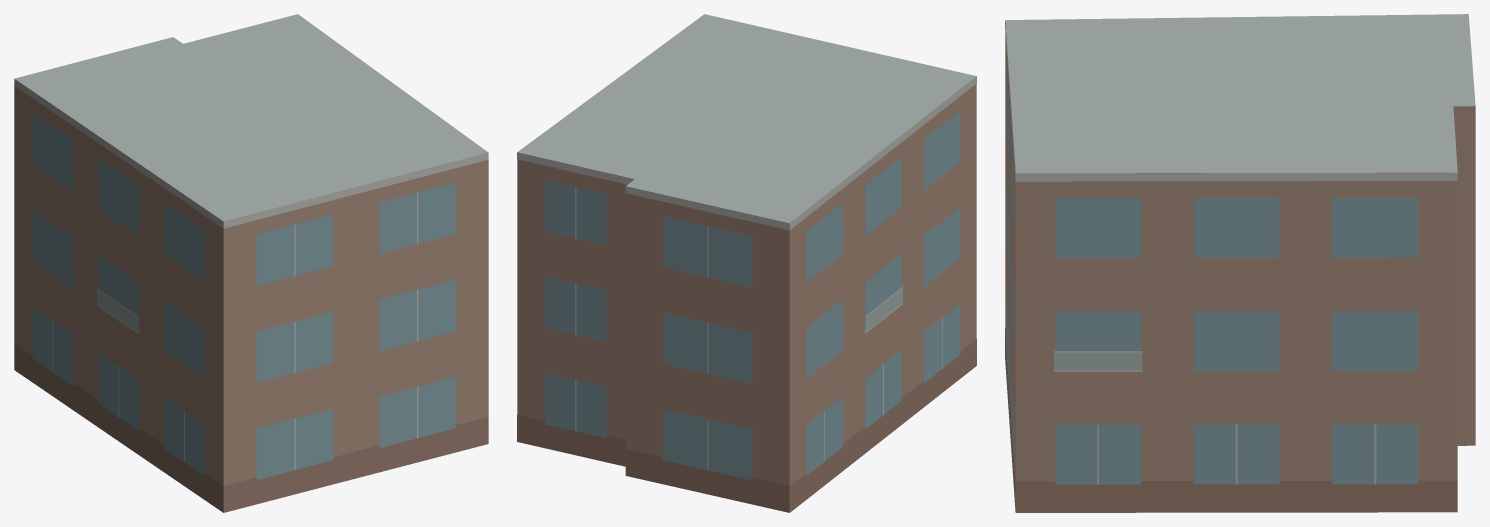
The model's file is survey-upis-32829201.glb.
The picture shows the model from 3 angles, left to right: view 1: azimuth 30°, elevation 25°; view 2: azimuth 150°, elevation 25°; view 3: azimuth 270°, elevation 25°; orthographic projection. The views are drawn at different scales.
Visible parts, largest first — view 1: survey-upis-32829201.tmp; view 2: survey-upis-32829201.tmp; view 3: survey-upis-32829201.tmp.
Boxes of the visible parts, x1,y1,x2,y2 form: survey-upis-32829201.tmp: (14, 14, 488, 512); survey-upis-32829201.tmp: (517, 14, 976, 512); survey-upis-32829201.tmp: (1005, 14, 1475, 512).
Size of the model in its own units: 10.1 by 10 by 12.56.
